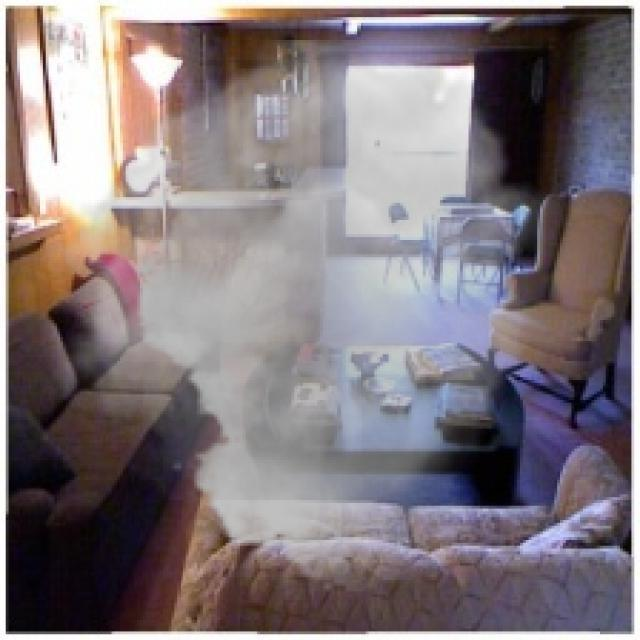Smoke: (40, 39, 566, 592)
